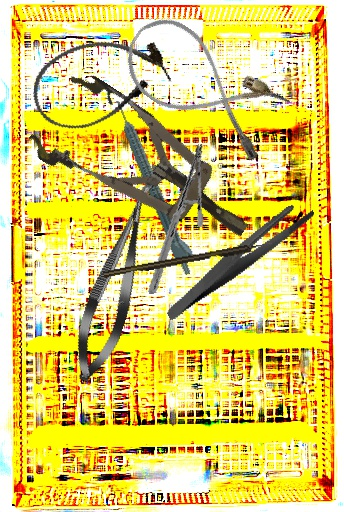Cannula: (110, 5, 296, 167), (21, 21, 178, 142)
Dressing Forceps: (147, 198, 331, 321)
Handpiece: (111, 95, 202, 277)
Hook Surgical: (103, 240, 273, 279)
Micro Scissor: (63, 173, 170, 387)
Needle Holder: (122, 143, 230, 295)
Speculum: (22, 64, 271, 274)
